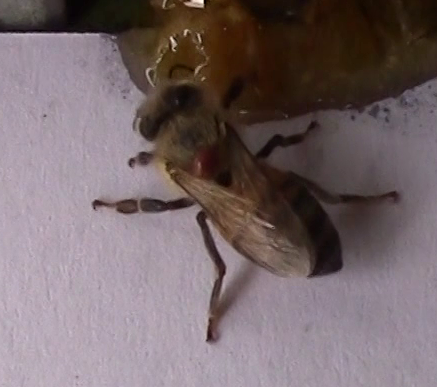Varroa destructor: (185, 142, 225, 181)
